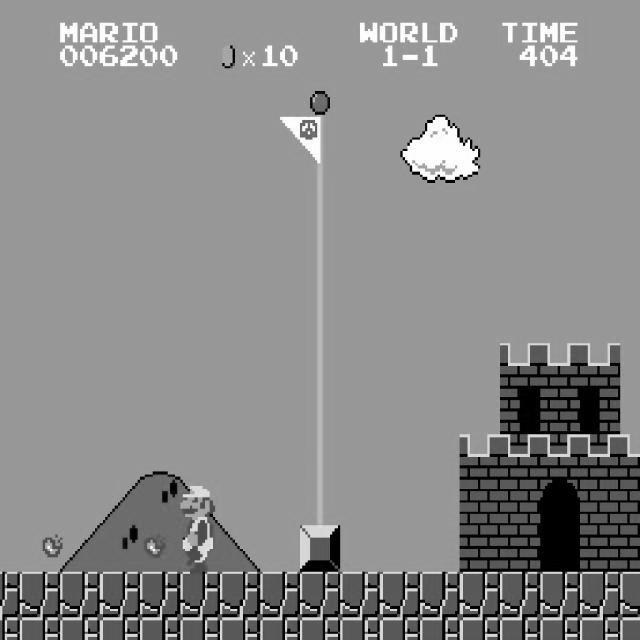1- brick_block: (580, 526, 620, 572)
17- undestructible_block: (20, 572, 60, 618), (60, 572, 100, 618), (100, 572, 140, 618), (140, 572, 180, 618), (180, 572, 220, 618), (220, 572, 260, 618), (260, 572, 300, 618), (300, 572, 340, 618), (340, 572, 380, 618), (380, 572, 420, 618), (420, 572, 460, 618), (460, 572, 500, 618), (500, 572, 540, 618), (540, 572, 580, 618), (580, 572, 620, 618), (0, 572, 20, 618), (620, 572, 640, 618), (20, 617, 60, 640), (60, 617, 100, 640), (100, 617, 140, 640), (140, 617, 180, 640), (180, 617, 220, 640), (220, 617, 260, 640), (260, 617, 300, 640), (300, 617, 340, 640), (340, 617, 380, 640), (380, 617, 420, 640), (420, 617, 460, 640), (460, 617, 500, 640), (500, 617, 540, 640), (540, 617, 580, 640), (580, 617, 620, 640), (0, 617, 20, 640), (620, 617, 640, 640)
4- fire_mario: (175, 480, 218, 574)
5- fireball: (42, 532, 62, 558), (145, 532, 165, 558)
7- goal_pole: (300, 68, 340, 114), (300, 114, 340, 160), (300, 160, 340, 206), (300, 252, 340, 298), (300, 297, 340, 343), (300, 388, 340, 434), (300, 434, 340, 480), (300, 480, 340, 526), (300, 206, 340, 251), (300, 343, 340, 388)
9- hard_block: (300, 526, 340, 572)
